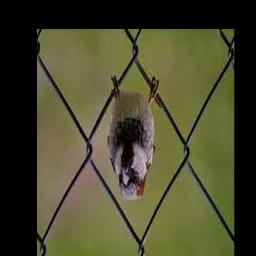Sparrow: (108, 89, 156, 201)
